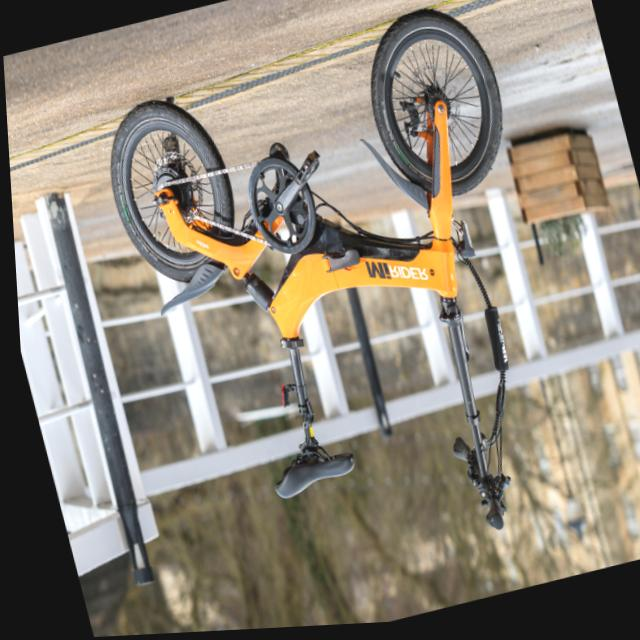folding-bike: (79, 0, 603, 608)
